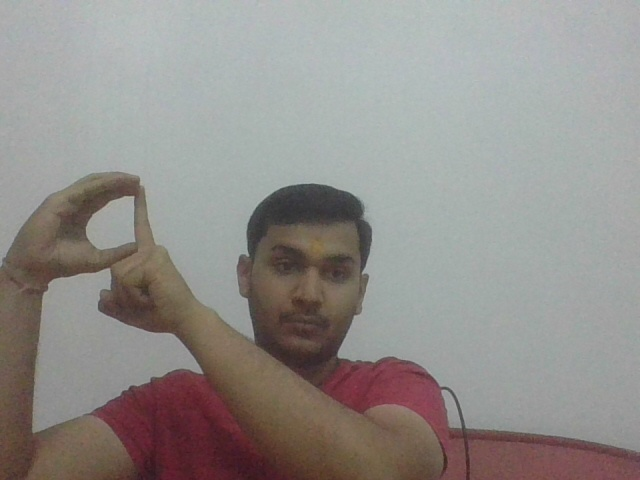D: (20, 164, 189, 328)
